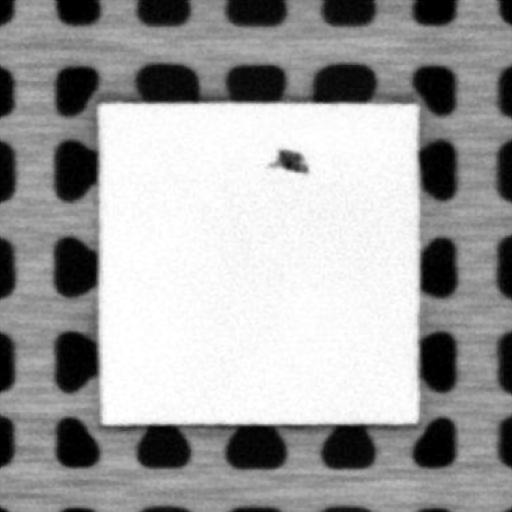DIE_INK: (267, 143, 307, 174)
